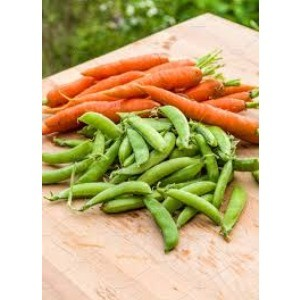green pea_brain food: (79, 130, 242, 215)
